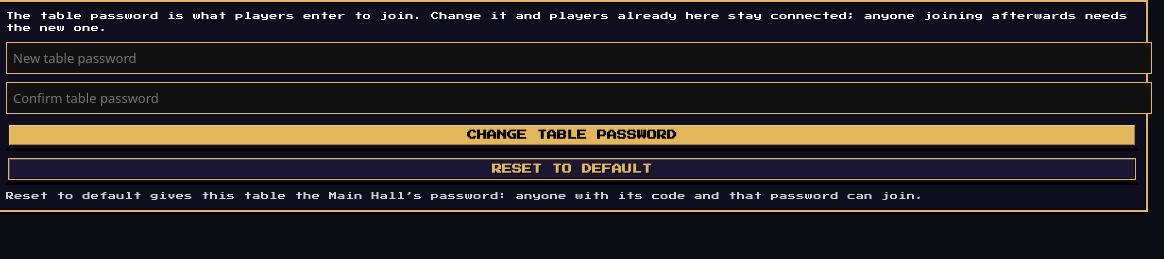
TablePasswordControl - Characterization Tests › Password Input Changes › should clear password error when typing in confirm password input
First trigger an error
Step 1. Click the button "Change table password" → x=572, y=135, box [6,122,1138,148]
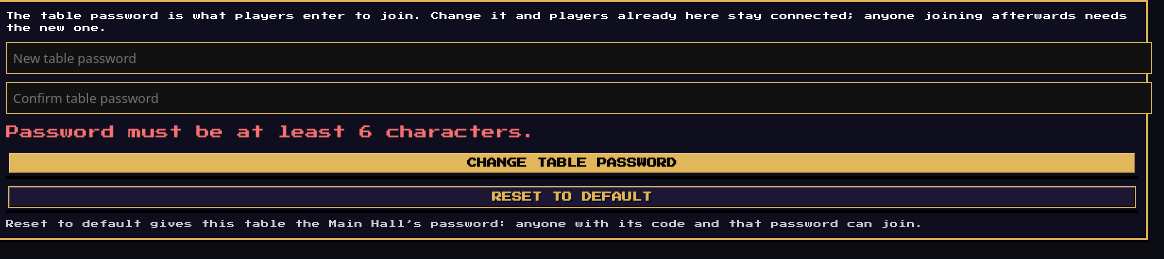
Check: the text "Password must be at least 6 characters." is shown, box [6,125,536,139]
Now type in the confirm password input
Step 2. Type "a" into the password field with placeholder "Confirm table password" → x=579, y=98, box [6,82,1152,114]
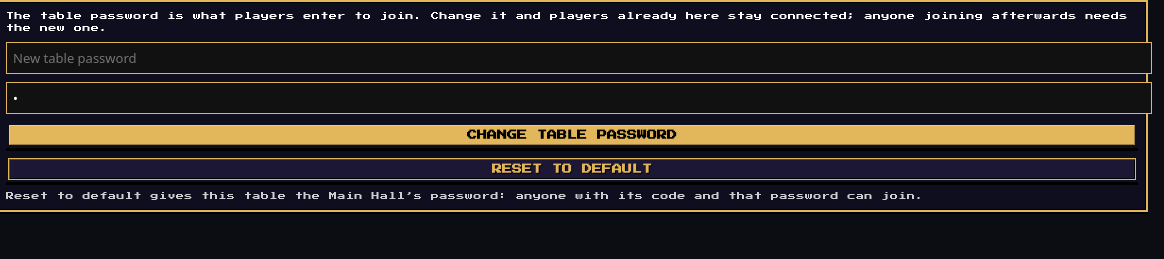
Check: the text "Password must be at least 6 characters." is gone
